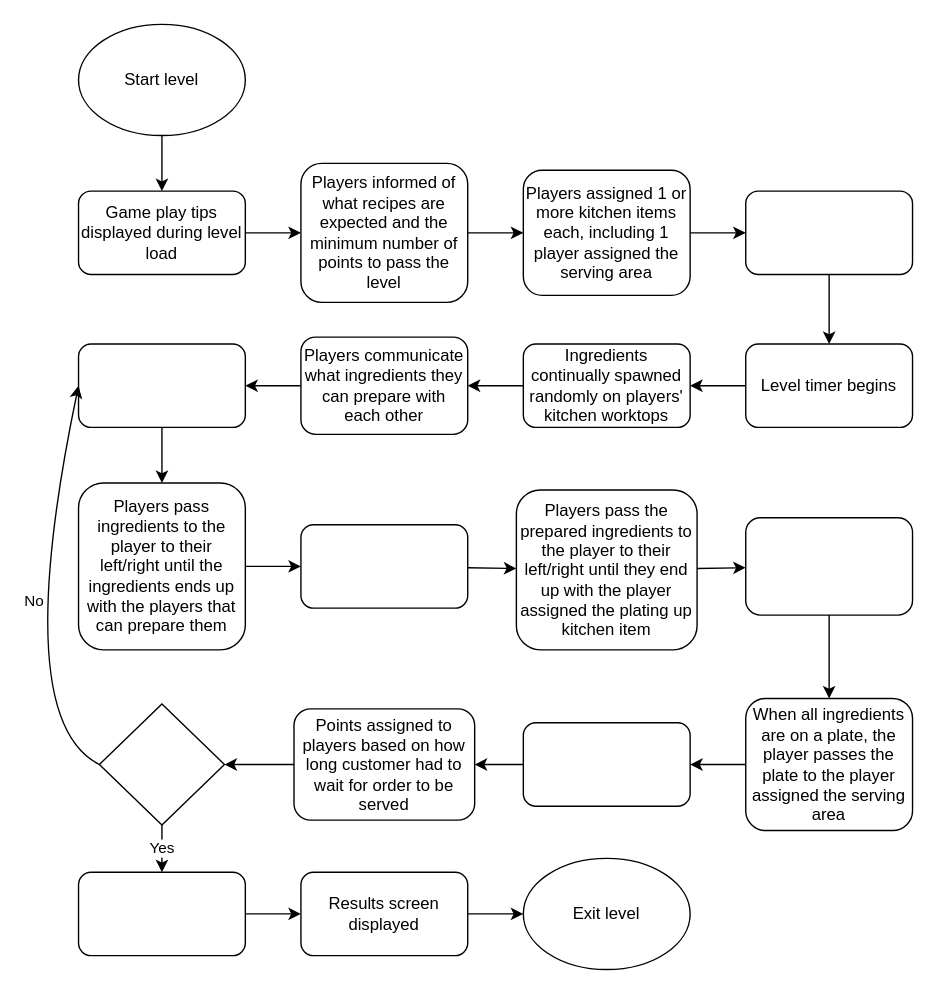
Some shapes in this 937 by 994 pixel diagram are drawn without their labels. The shapes that lost their labels are listed below. From the top down, each one's box as (x1, y1, x2, y2) in pixels, then its label:
(744, 190, 913, 275): Count down timer in seconds - 3, 2, 1
(77, 343, 245, 427): Orders continually placed by resteraunt customers
(300, 523, 468, 608): Players prepare ingredients using assigned kitchen items
(744, 516, 913, 615): Player with plating up kitchen item puts prepared ingredients on plate
(98, 703, 224, 825): Game time expired?
(522, 721, 690, 806): Player places plate on serving area
(77, 871, 245, 956): Game play stopped
